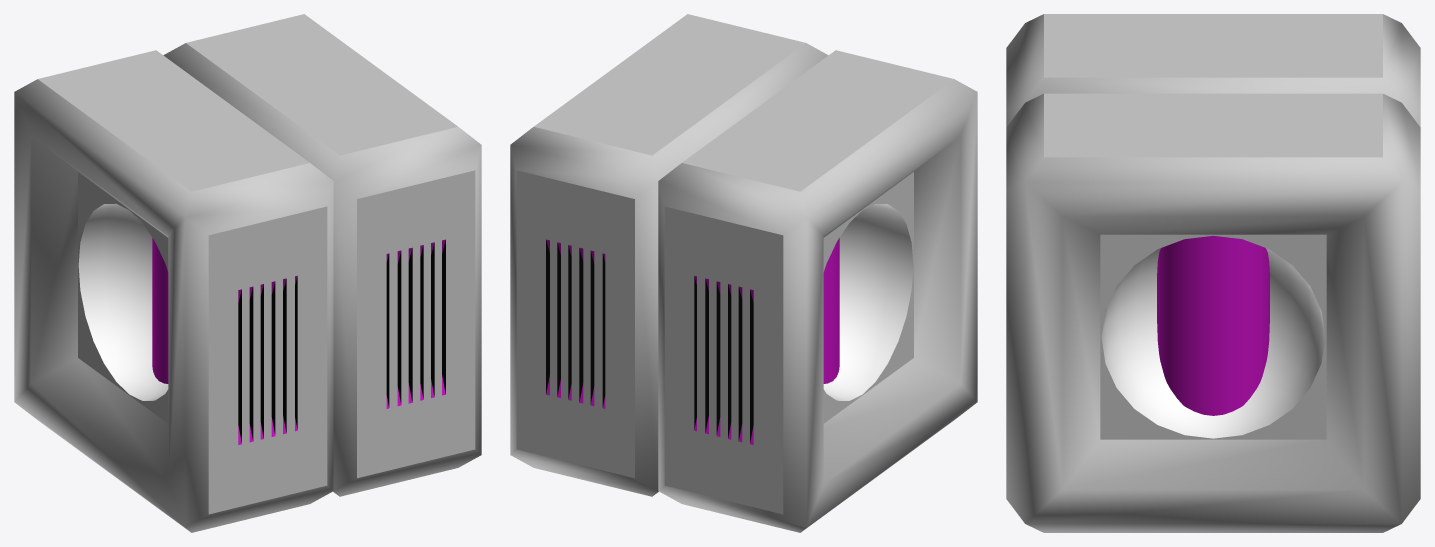
File: GenPart.fbx
The picture shows the model from 3 angles, left to right: view 1: azimuth 30°, elevation 25°; view 2: azimuth 150°, elevation 25°; view 3: azimuth 270°, elevation 25°; orthographic projection. The views are drawn at different scales.
Visible parts, largest first — view 1: Cube_1; view 2: Cube_1; view 3: Cube_1.
Boxes of the visible parts, bbox=[...] form: Cube_1: bbox=[14, 14, 481, 532]; Cube_1: bbox=[510, 14, 977, 532]; Cube_1: bbox=[1006, 14, 1420, 532].
Bounding box in the file's own units: 200 × 220 × 220.
